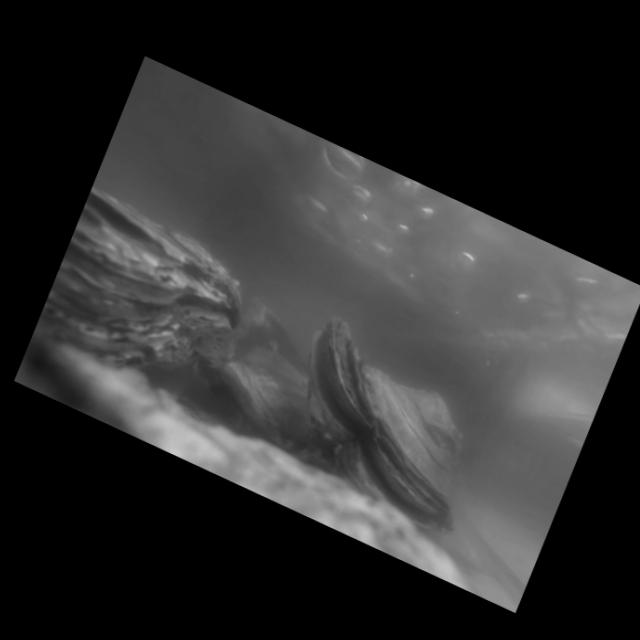Oyster-Closed: (37, 188, 241, 365), (217, 361, 287, 438), (235, 299, 304, 370)
Oyster-Indeterminate: (17, 340, 464, 586)
Oyster-Open: (308, 318, 460, 529)
